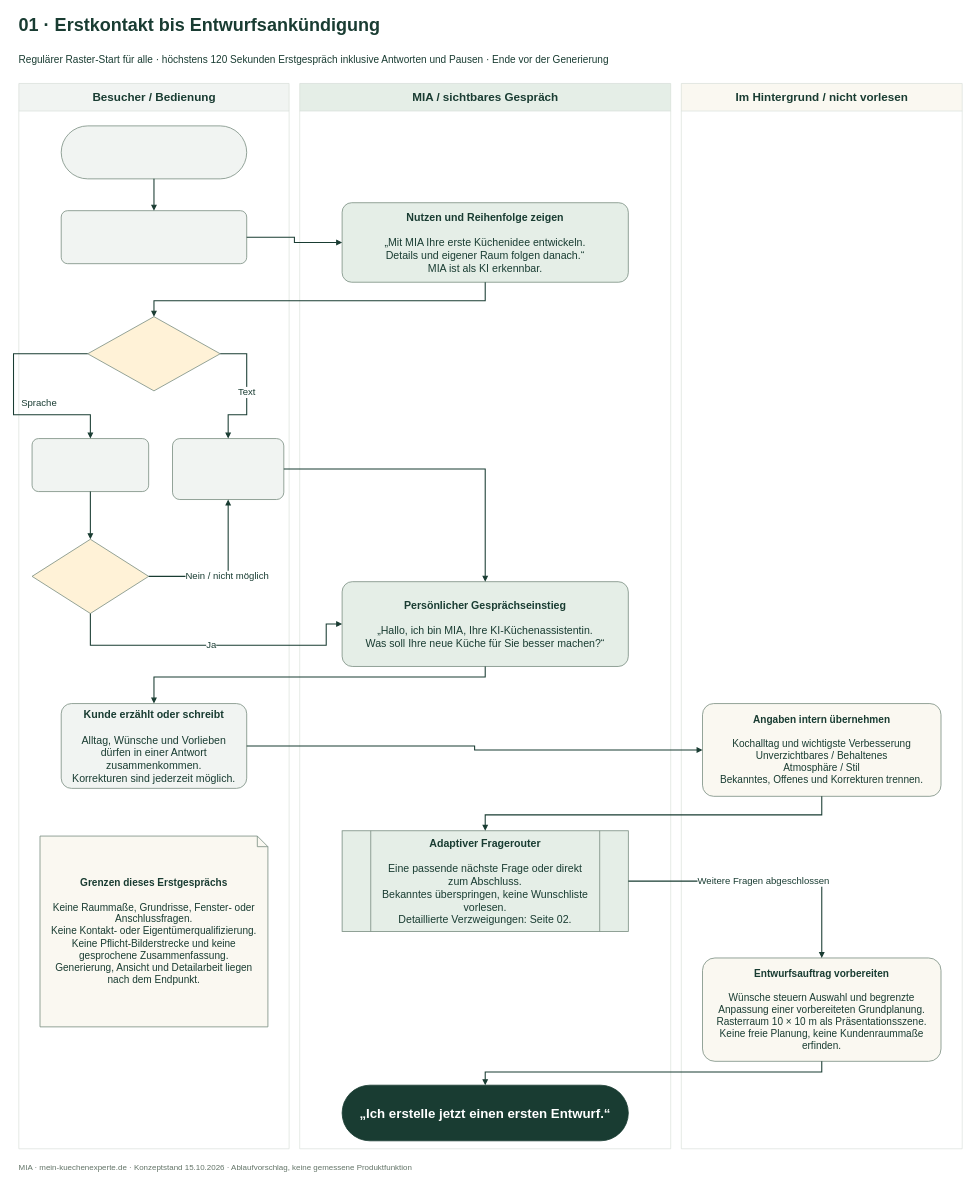
Image size: 971x1183. Some labels were removed from this diagram. Each missing label, with the centre of its shape:
Erster Kontakt Besucher sieht den MIA-Einstieg auf der Website.: (154,152)
MIA bewusst starten „Meine erste Küchenidee entwickeln“: (154,237)
Mikrofon verfügbar und freigegeben?: (90,576)
Sprache oder Text?: (153,353)
Sprache wählen Mikrofonzugriff anfragen.: (90,465)
Text wählen / fortsetzen Vollständiger Ablauf ohne Mikrofon.: (228,469)
